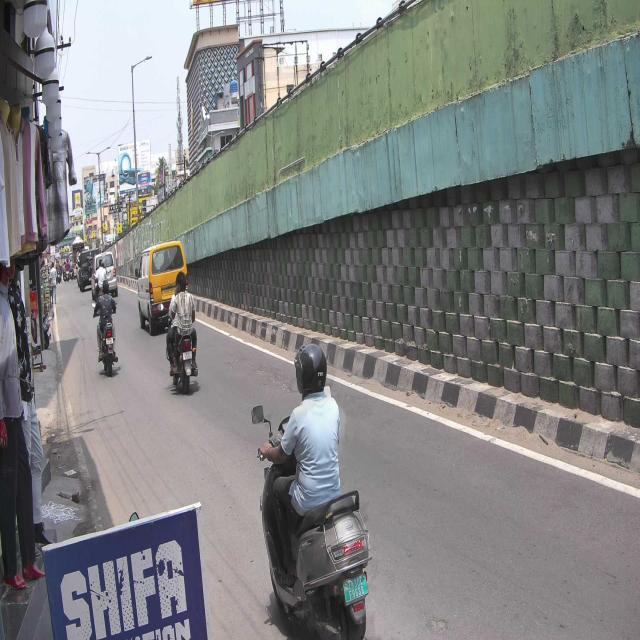single_rider: (255, 340, 371, 640)
